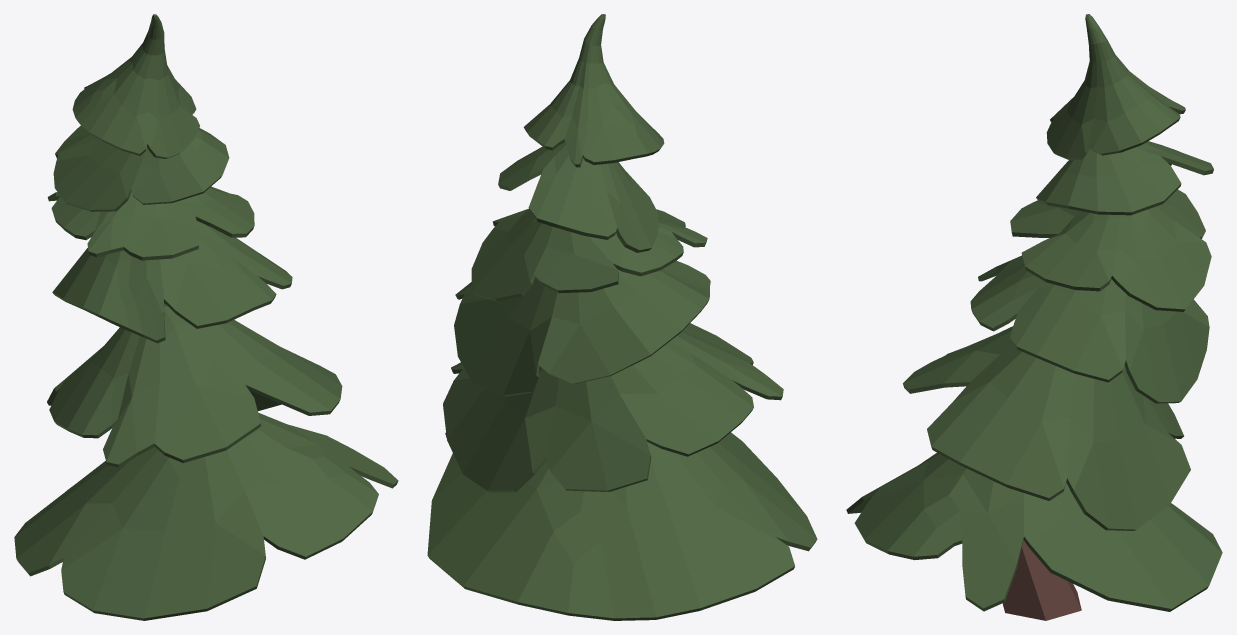
The model's file is pine-2.glb.
3 views of the same model, side by side, from view 1: azimuth 30°, elevation 25°; view 2: azimuth 150°, elevation 25°; view 3: azimuth 270°, elevation 25° (orthographic). The views are drawn at different scales.
Visible parts, largest first — view 1: PineTree_3; view 2: PineTree_3; view 3: PineTree_3.
Boxes of the visible parts, x1,y1,x2,y2 form: PineTree_3: (14, 14, 398, 620); PineTree_3: (427, 14, 817, 620); PineTree_3: (846, 14, 1222, 620).
Size of the model in its own units: 2.16 by 3.3 by 1.95.
